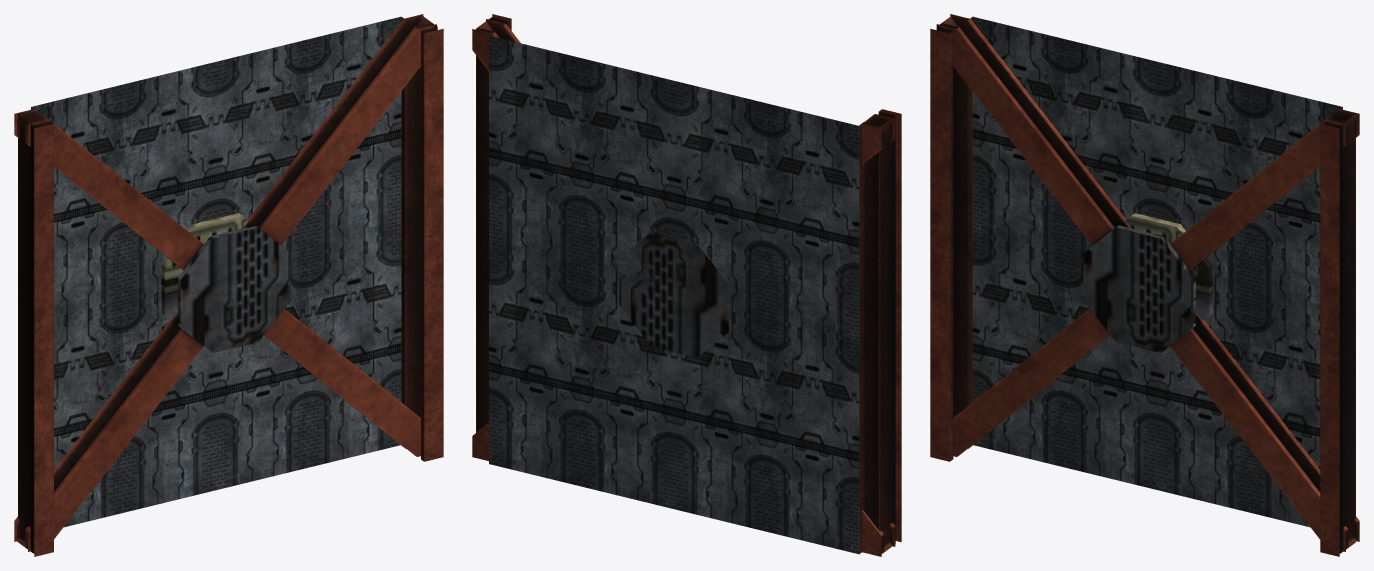
File: flat_cross_girder.dae
3 renders of one model, left to right at view 1: azimuth 30°, elevation 25°; view 2: azimuth 150°, elevation 25°; view 3: azimuth 330°, elevation 25°, orthographic.
Parts seen in each view (by area): view 1: polySurface711, polySurface712; view 2: polySurface711, polySurface712; view 3: polySurface711, polySurface712.
Boxes of the visible parts, left/top/right/bottom form: polySurface711: left=31, top=16, right=401, bottom=527; polySurface712: left=14, top=14, right=443, bottom=556; polySurface711: left=489, top=35, right=859, bottom=554; polySurface712: left=472, top=14, right=901, bottom=556; polySurface711: left=972, top=16, right=1342, bottom=527; polySurface712: left=930, top=14, right=1359, bottom=556.
Size of the model in its own units: 4 by 4 by 0.3881.
